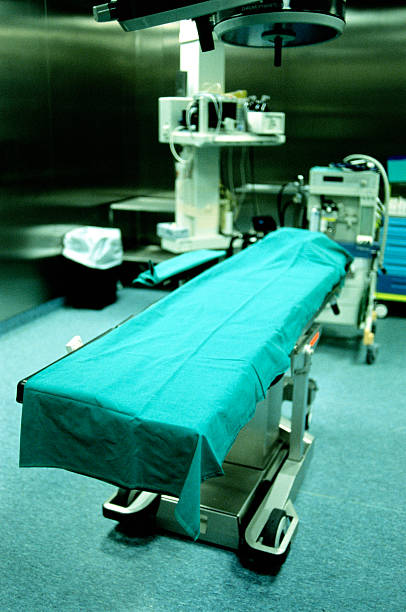operating_bed: (16, 226, 354, 577)
surgical_light: (213, 1, 346, 66)
ventilator: (301, 151, 390, 349)
waste_bin: (63, 220, 123, 309)
